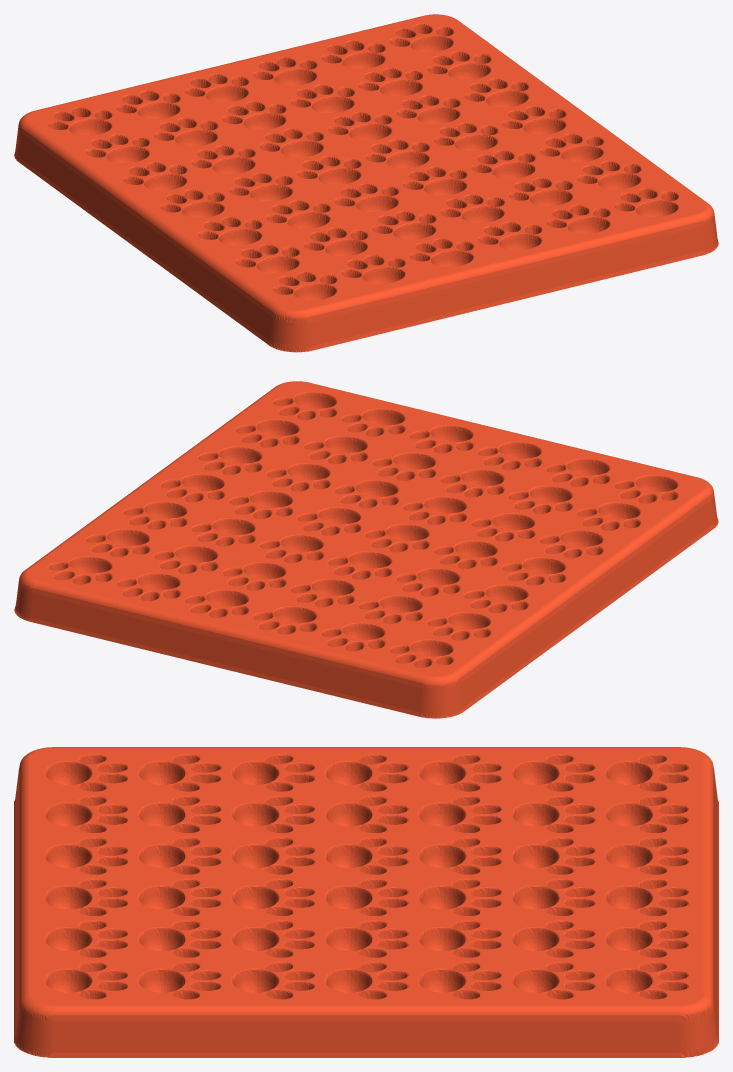
The model's file is mold.glb.
The picture shows the model from 3 angles, top to bottom: view 1: azimuth 30°, elevation 25°; view 2: azimuth 150°, elevation 25°; view 3: azimuth 270°, elevation 25°; orthographic projection. The views are drawn at different scales.
Parts seen in each view (by area): view 1: geometry_0; view 2: geometry_0; view 3: geometry_0.
Boxes of the visible parts, x1=… form: geometry_0: x1=14, y1=14, x2=718, y2=352; geometry_0: x1=14, y1=381, x2=718, y2=718; geometry_0: x1=14, y1=747, x2=718, y2=1057.
Size of the model in its own units: 0.1437 by 0.0114 by 0.1581.
